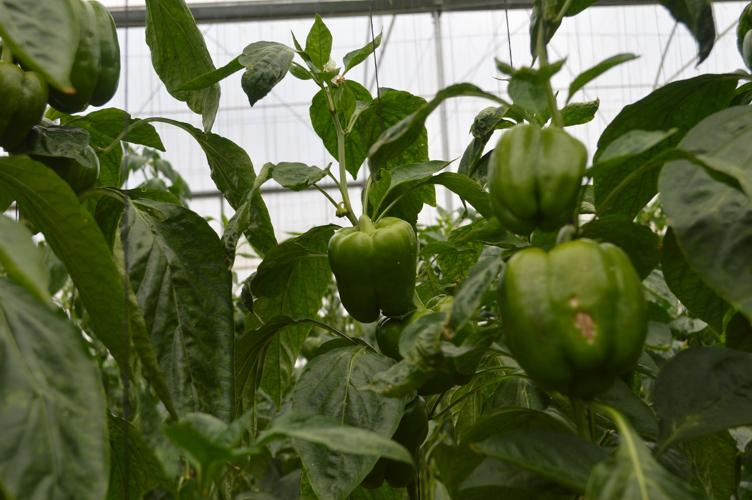BellPepper: (498, 237, 649, 398), (485, 126, 585, 232), (372, 292, 479, 387), (324, 220, 415, 319), (48, 2, 122, 105)
